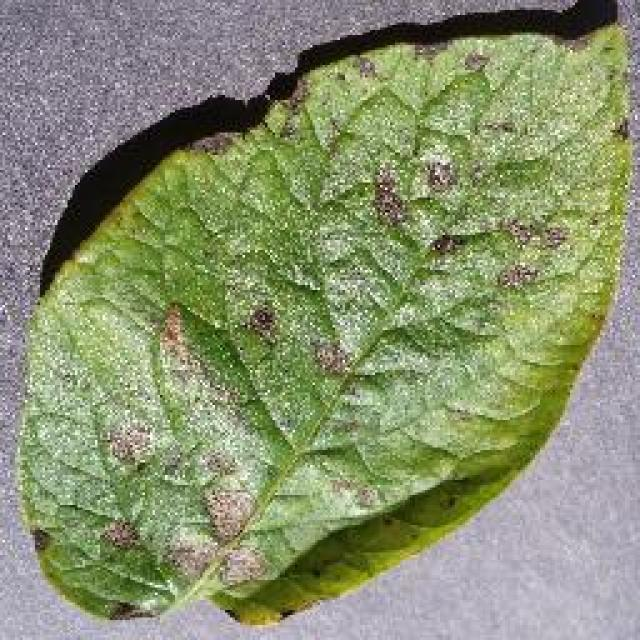early_blight: (13, 10, 635, 630)
